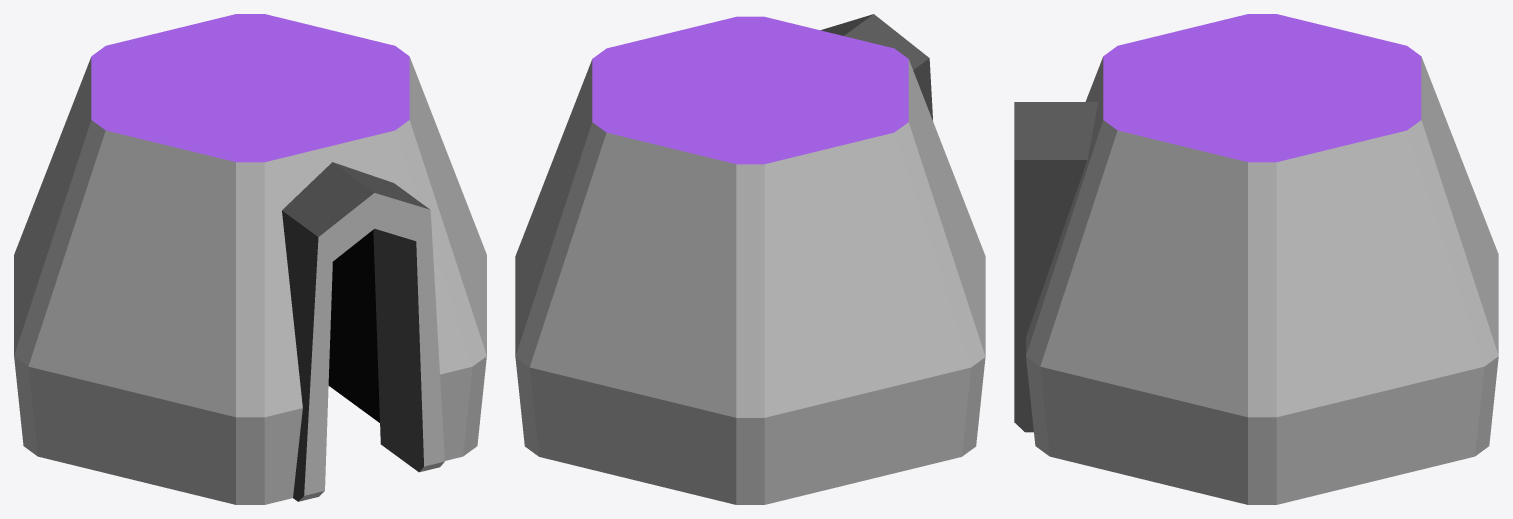
File: x_BASHNYA_body_ZM1_rmstrd.fbx
3 renders of one model, left to right at view 1: azimuth 30°, elevation 25°; view 2: azimuth 150°, elevation 25°; view 3: azimuth 270°, elevation 25°, orthographic.
Parts seen in each view (by area): view 1: x_BASHNYA_body_ZM1_rmstrd1; view 2: x_BASHNYA_body_ZM1_rmstrd1; view 3: x_BASHNYA_body_ZM1_rmstrd1.
Part boxes in pixels (x1,y1,x2,y2): x_BASHNYA_body_ZM1_rmstrd1: (14,14,486,504); x_BASHNYA_body_ZM1_rmstrd1: (515,14,985,504); x_BASHNYA_body_ZM1_rmstrd1: (1014,14,1498,504).
Bounding box in the file's own units: 9.73 × 6.28 × 8.91.
